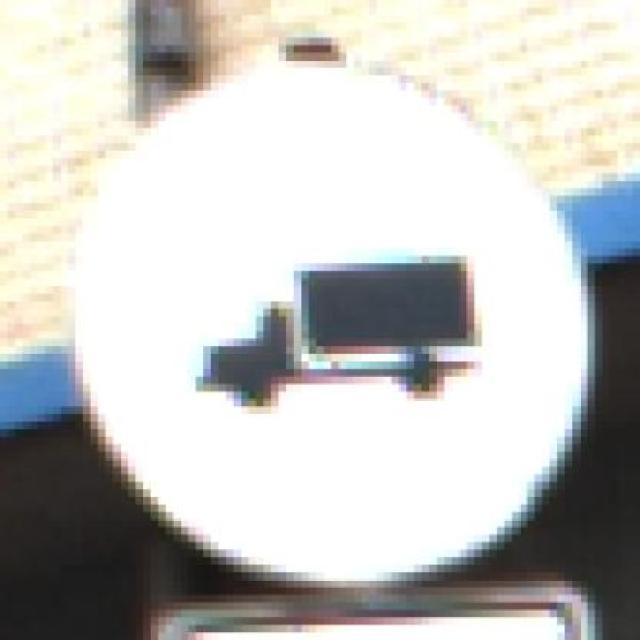Truck traffic is prohibited: (60, 22, 603, 595)
